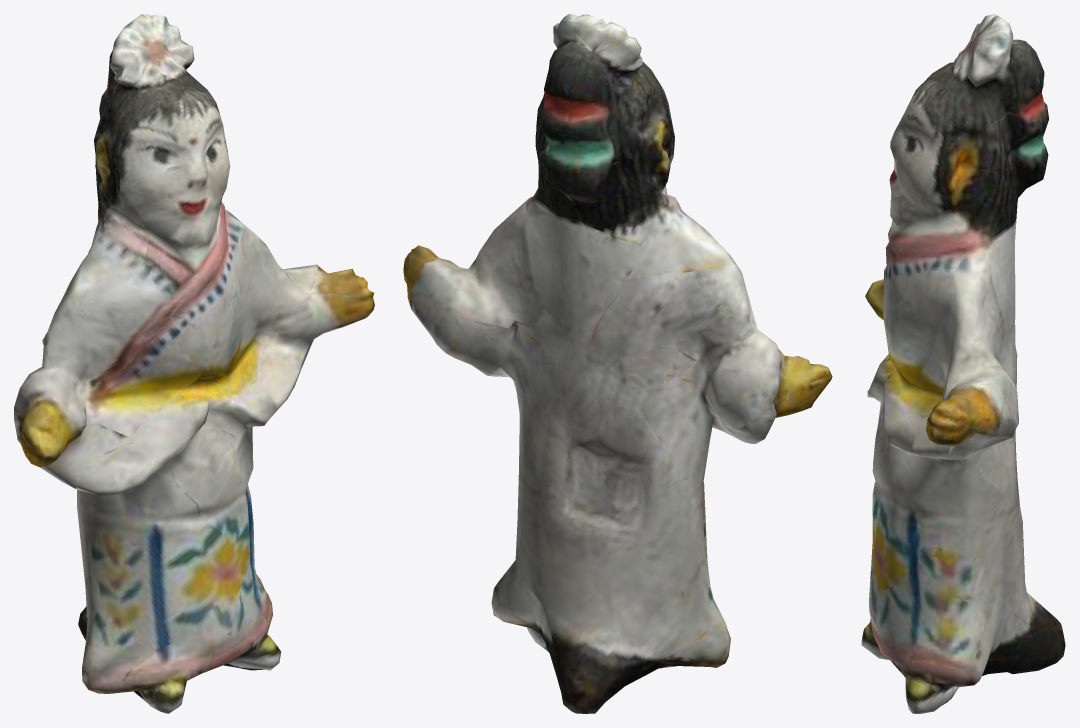
File: hall.glb
3 renders of one model, left to right at view 1: azimuth 30°, elevation 25°; view 2: azimuth 150°, elevation 25°; view 3: azimuth 270°, elevation 25°, orthographic. The views are drawn at different scales.
Bounding box in the file's own units: 0.6134 × 1.02 × 0.2889.
Materials: 1 (1 with a texture image).
